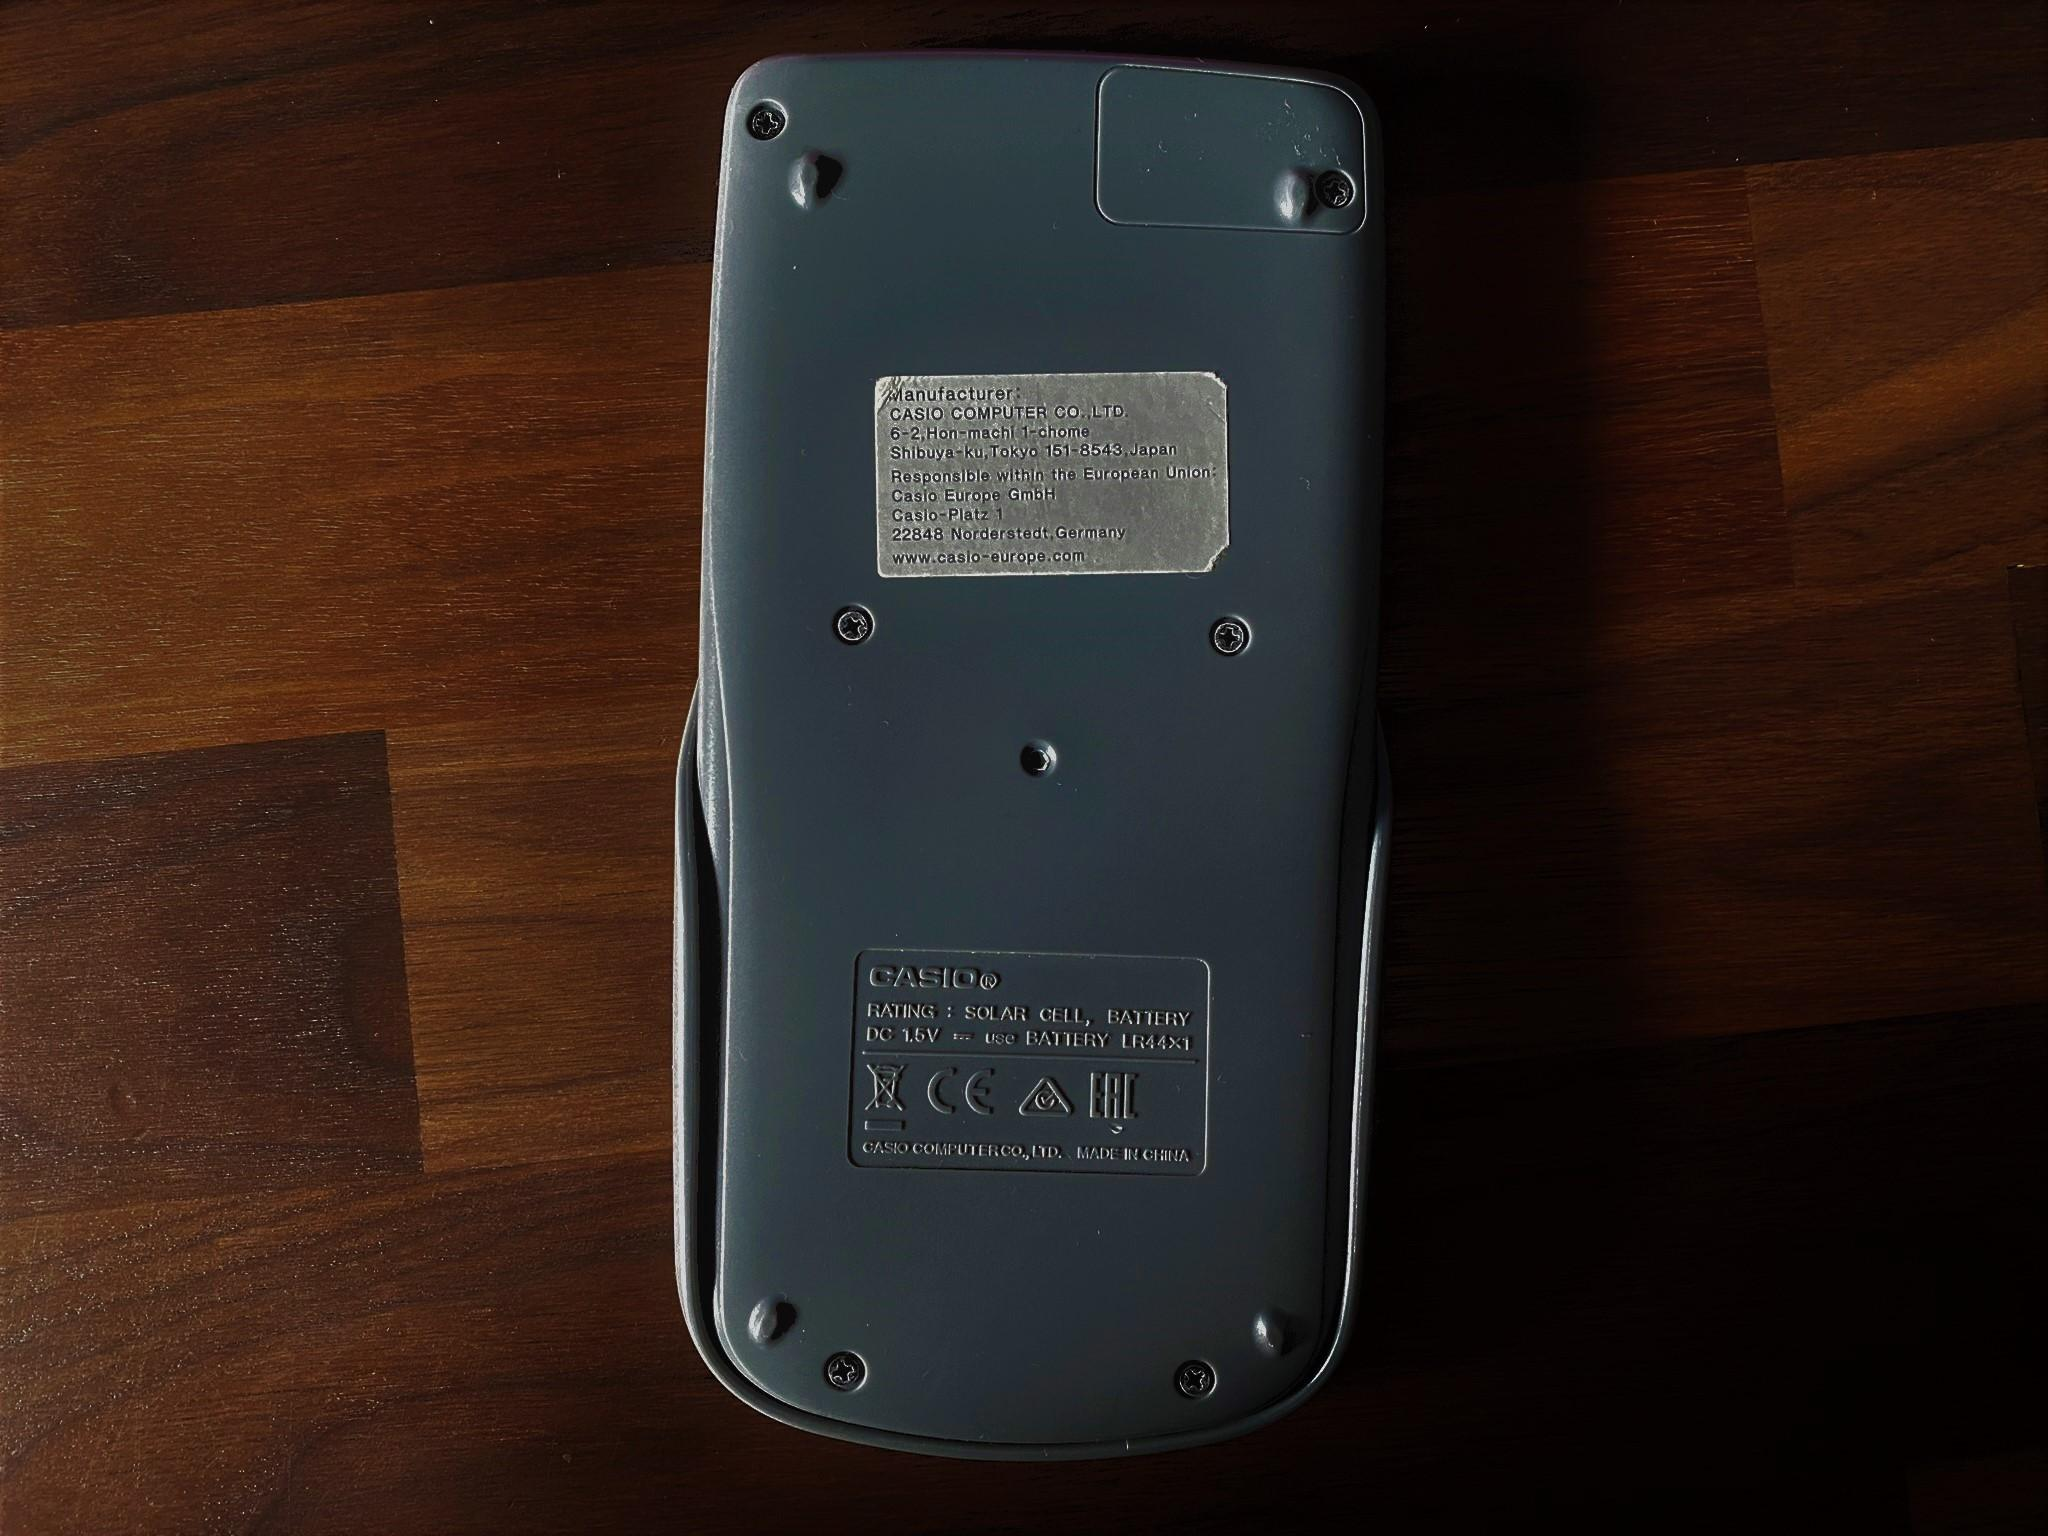PH: (1317, 168, 1358, 211), (1174, 1362, 1218, 1402), (822, 1352, 864, 1391), (743, 105, 789, 140), (1208, 620, 1251, 655), (834, 607, 871, 642)
